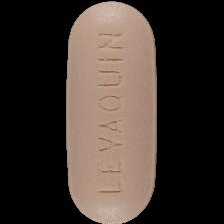49999-418: (0, 0, 224, 224)
